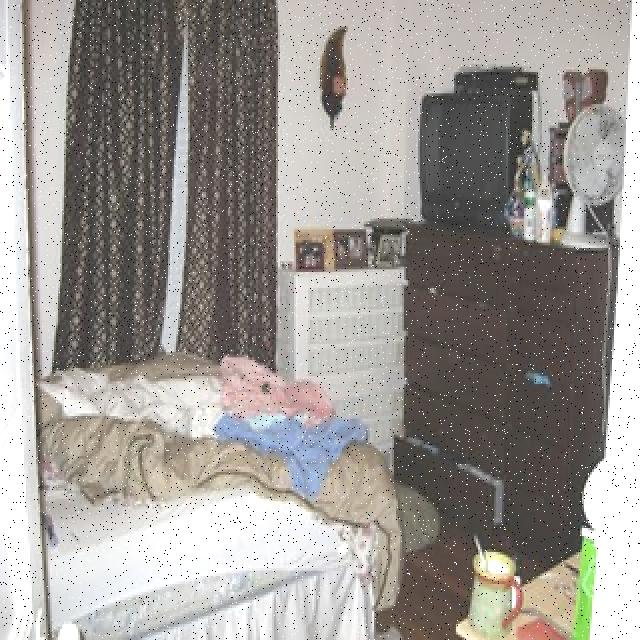bed: (40, 312, 410, 640)
